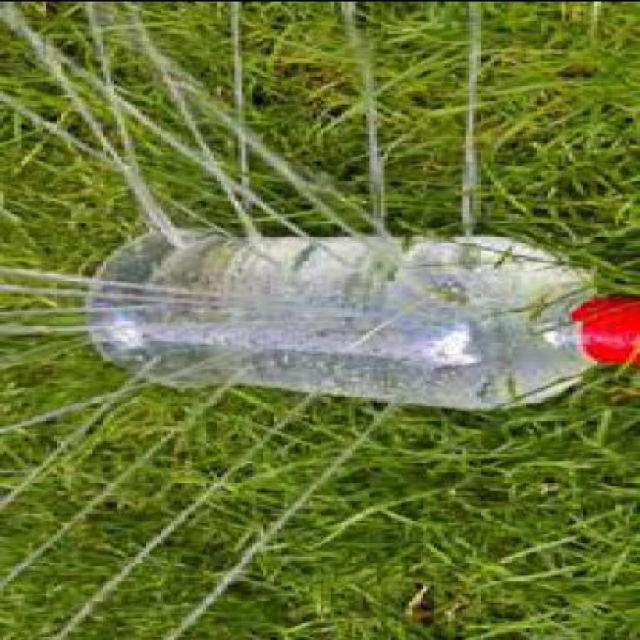PLASTIC: (82, 226, 636, 405), (569, 292, 636, 358)
